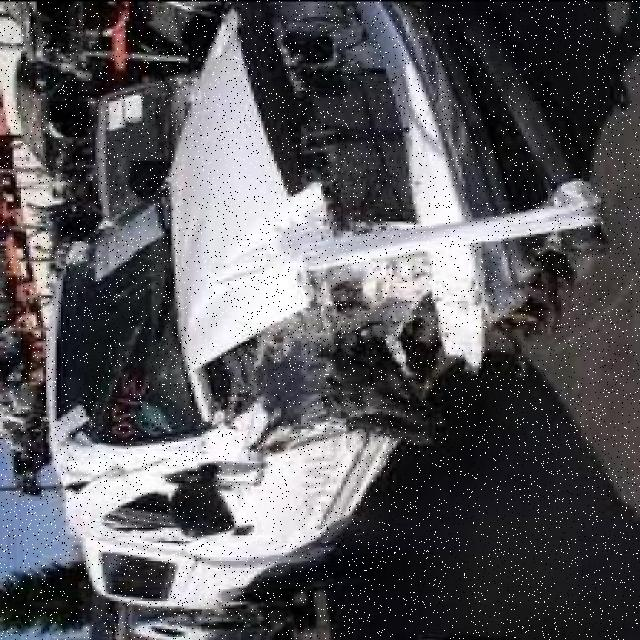damage: (49, 4, 554, 558)
